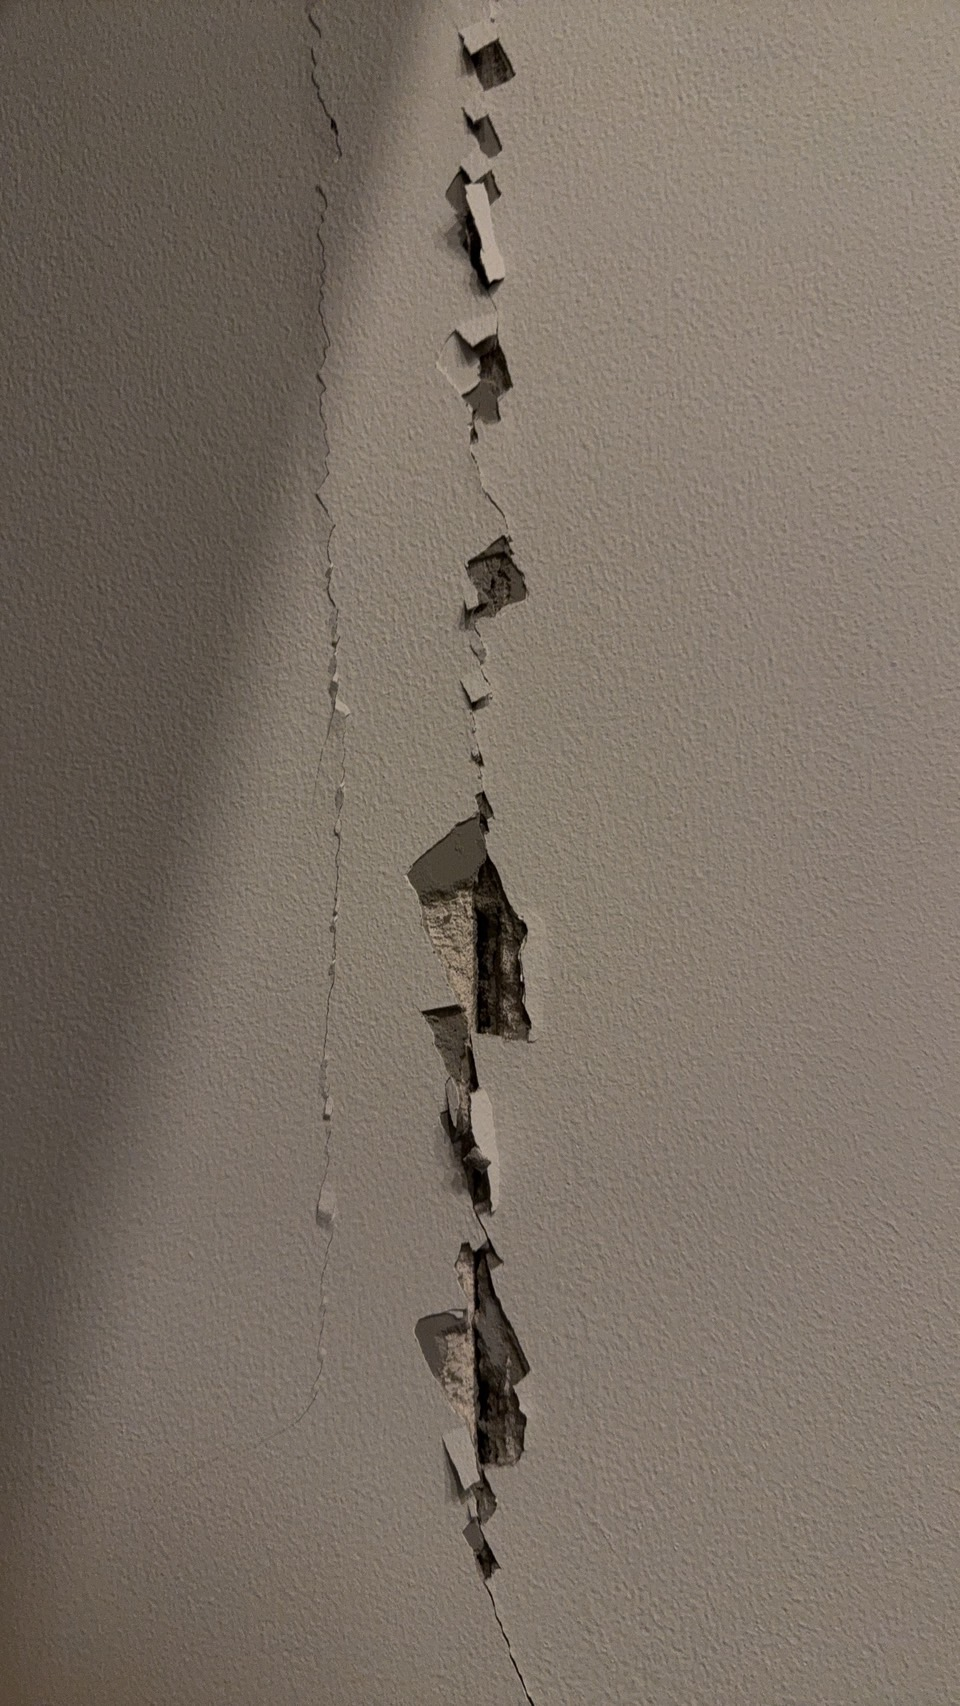Medium: (259, 9, 692, 1570)
